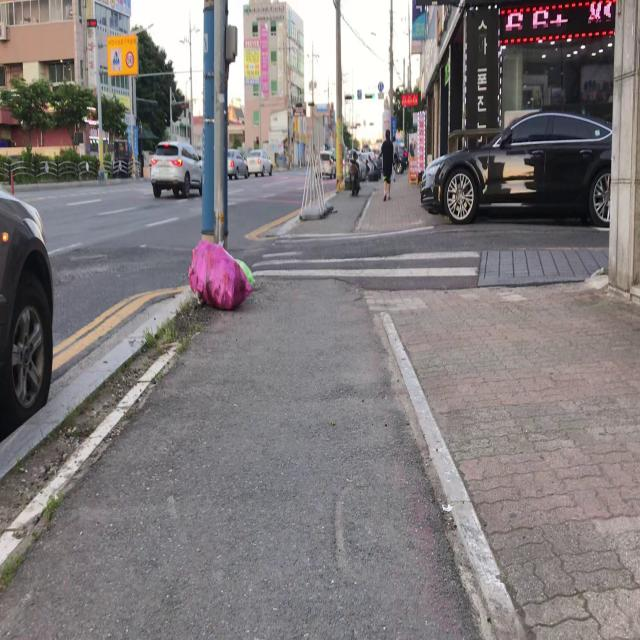횡단보도: (250, 236, 480, 280)
